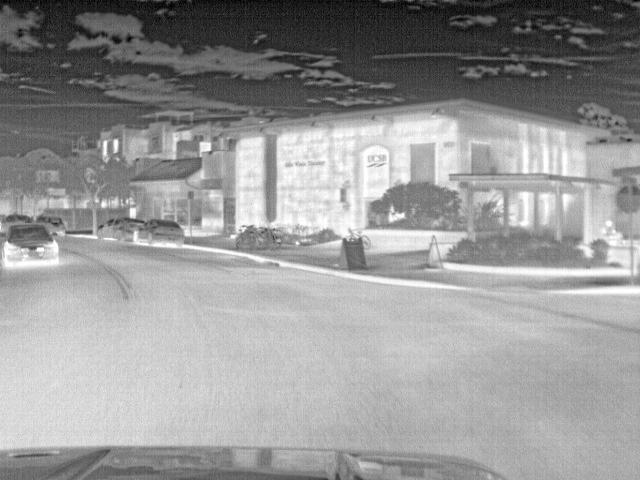car: (1, 222, 61, 268), (132, 218, 187, 250), (93, 218, 145, 240), (2, 213, 30, 240), (32, 215, 67, 235)
person: (600, 220, 618, 236)
